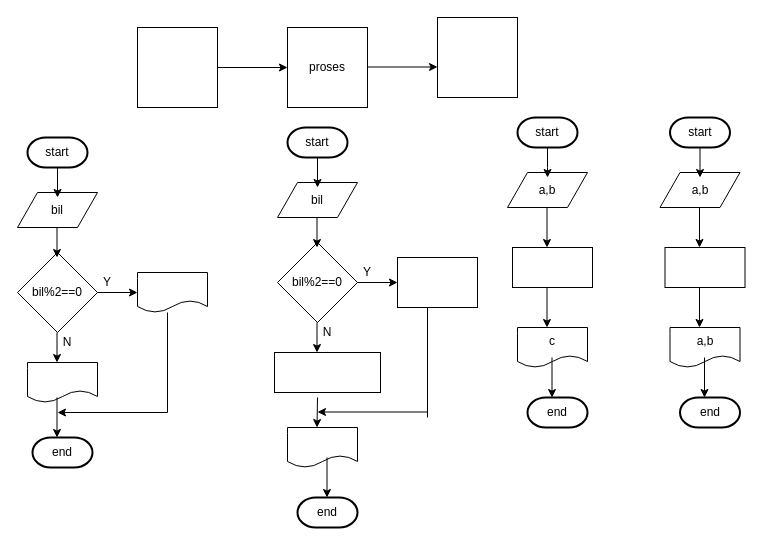
The diagram is 763 pixels wide and 546 high, and some of its shapes have lost their labels. Each missing label, with the box of its shape:
c=a a=b b=c: (664, 246, 745, 288)
c=a+b: (512, 246, 592, 288)
Ganjil: (26, 362, 98, 402)
Genap: (136, 272, 208, 312)
input: (136, 26, 218, 108)
msg: (286, 426, 358, 468)
msg="Ganjil": (274, 352, 380, 392)
msg="Genap": (396, 256, 478, 308)
output: (436, 16, 518, 98)
